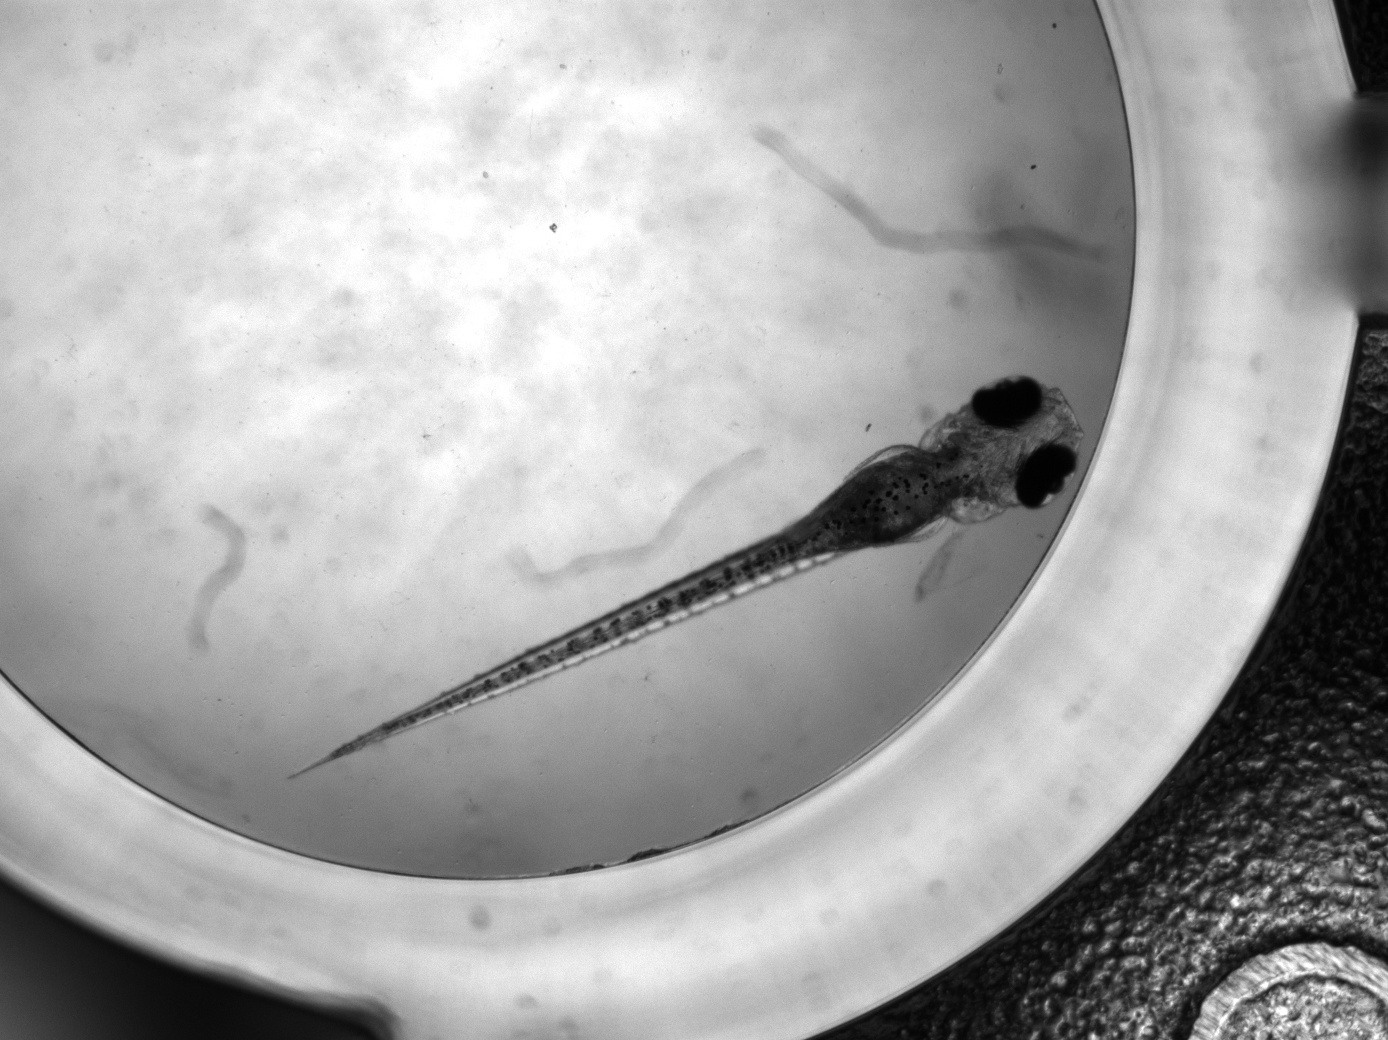embryo: (284, 373, 1087, 782)
eye: (1013, 441, 1077, 509), (970, 376, 1043, 429)
yolksac: (814, 444, 950, 551)
